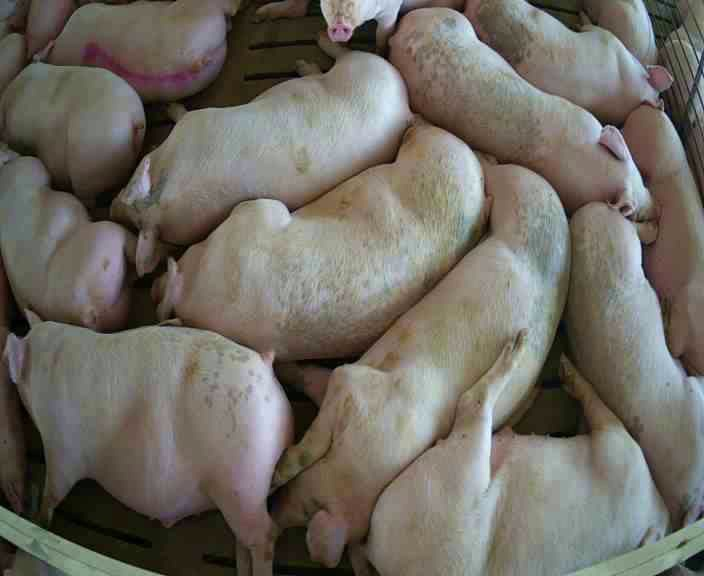pig: (151, 120, 486, 359), (1, 308, 291, 573), (112, 32, 411, 277), (390, 8, 651, 220), (567, 202, 703, 527), (465, 2, 672, 124), (623, 105, 703, 374), (33, 2, 238, 100), (0, 63, 145, 199), (583, 1, 656, 64)
